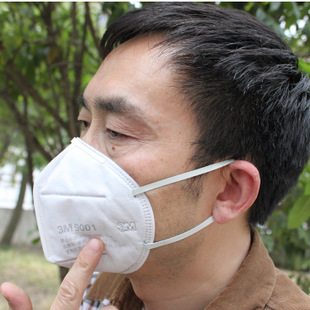face_mask: (72, 38, 209, 271)
